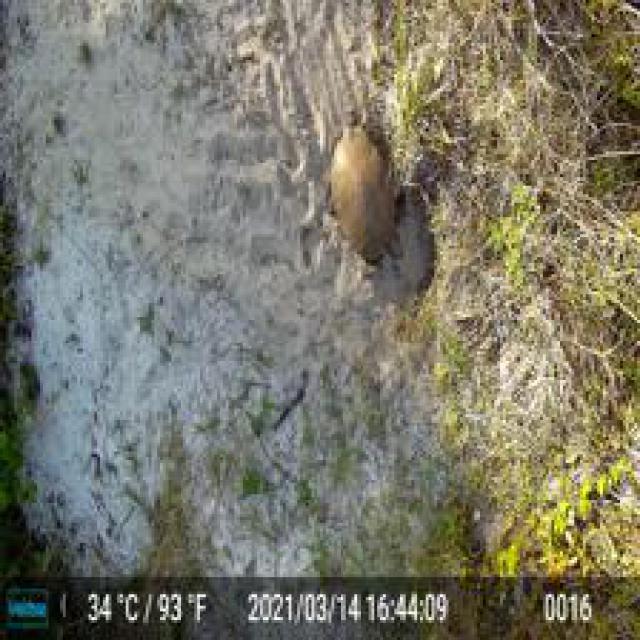tortoise: (323, 123, 408, 274)
